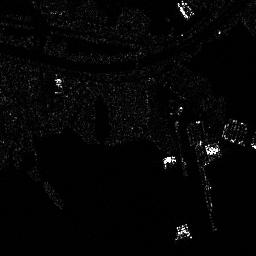ship: (160, 154, 177, 169)
